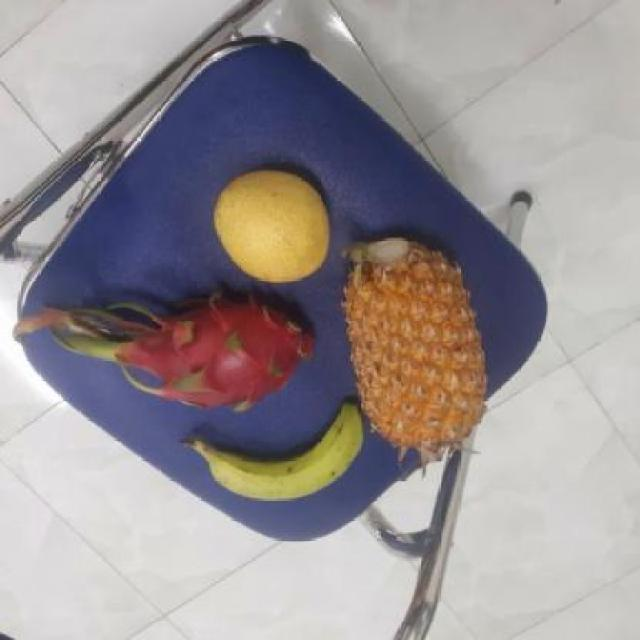banana: (206, 400, 374, 502)
dragon fruit: (123, 286, 322, 408)
pear: (211, 167, 335, 281)
pineapple: (338, 237, 493, 448)
